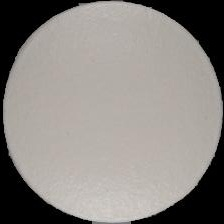55154-3876: (0, 0, 224, 224)
